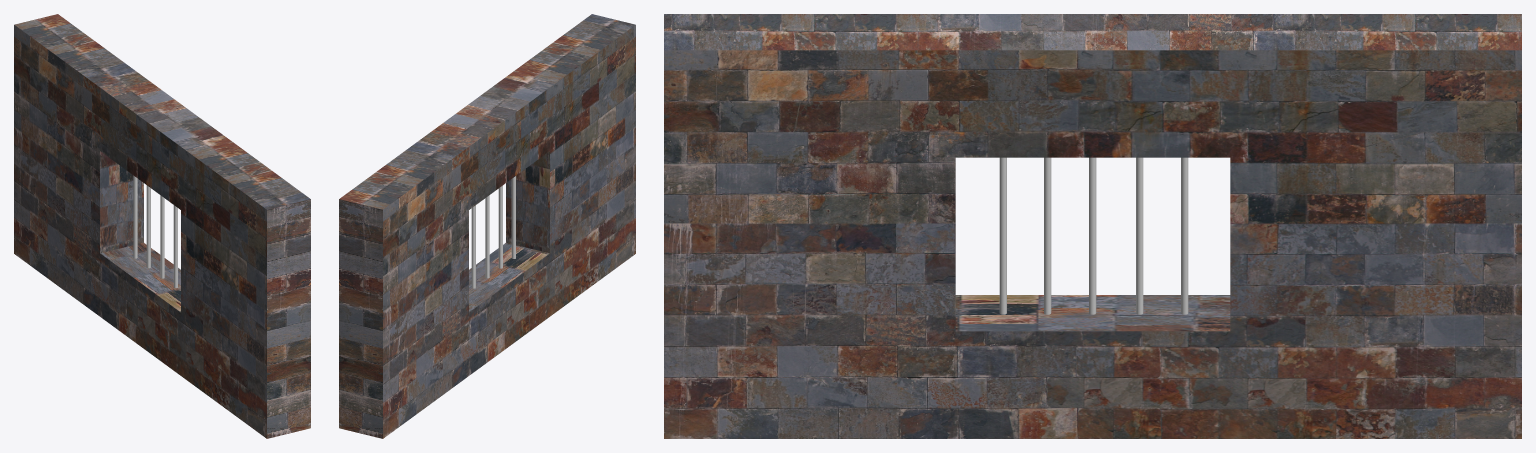
Rendered from brick_wall_window_standard.FBX.
3 views of the same model, side by side, from view 1: azimuth 30°, elevation 25°; view 2: azimuth 150°, elevation 25°; view 3: azimuth 270°, elevation 25° (orthographic). The views are drawn at different scales.
Parts seen in each view (by area): view 1: Box002, Cylinder001, Cylinder003, Cylinder004, Cylinder002; view 2: Box002, Cylinder001, Cylinder003, Cylinder004, Cylinder005; view 3: Box002, Cylinder001, Cylinder002, Cylinder005, Cylinder003, Cylinder004.
Boxes of the visible parts, x1,y1,x2,y2 form: Box002: [14, 14, 310, 438]; Cylinder001: [146, 185, 150, 268]; Cylinder003: [160, 195, 164, 278]; Cylinder004: [173, 205, 177, 288]; Cylinder002: [133, 175, 137, 258]; Box002: [339, 14, 635, 438]; Cylinder001: [471, 205, 475, 288]; Cylinder003: [485, 195, 489, 278]; Cylinder004: [498, 185, 502, 268]; Cylinder005: [511, 176, 515, 258]; Box002: [664, 14, 1521, 438]; Cylinder001: [1136, 157, 1143, 314]; Cylinder002: [1181, 157, 1188, 314]; Cylinder005: [999, 157, 1006, 314]; Cylinder003: [1089, 157, 1096, 314]; Cylinder004: [1044, 157, 1051, 314].
Size of the model in its own units: 0.5 by 2.5 by 5.
1 material, 1 textured.
